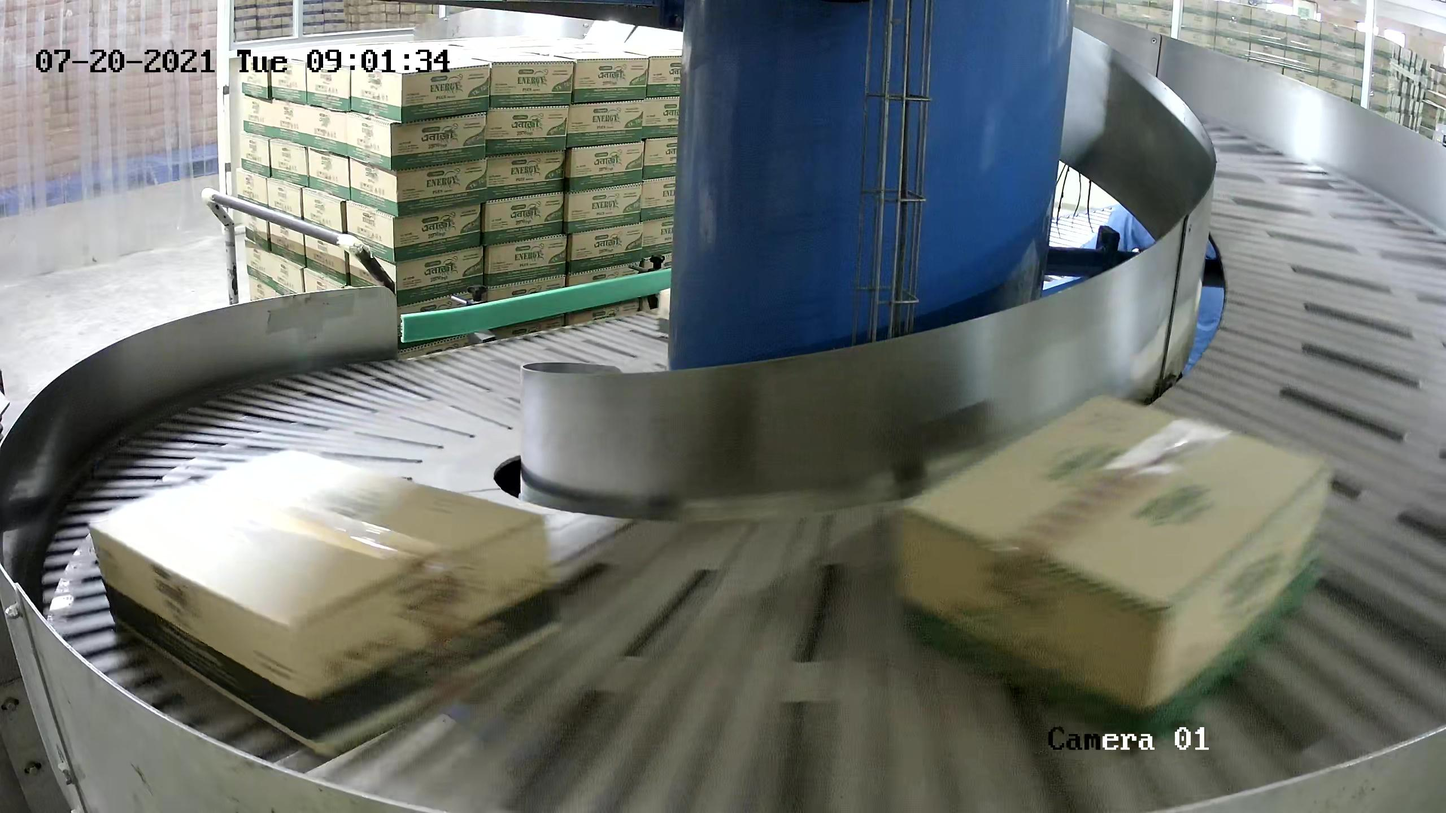Box: (895, 391, 1335, 751), (85, 446, 560, 760)
